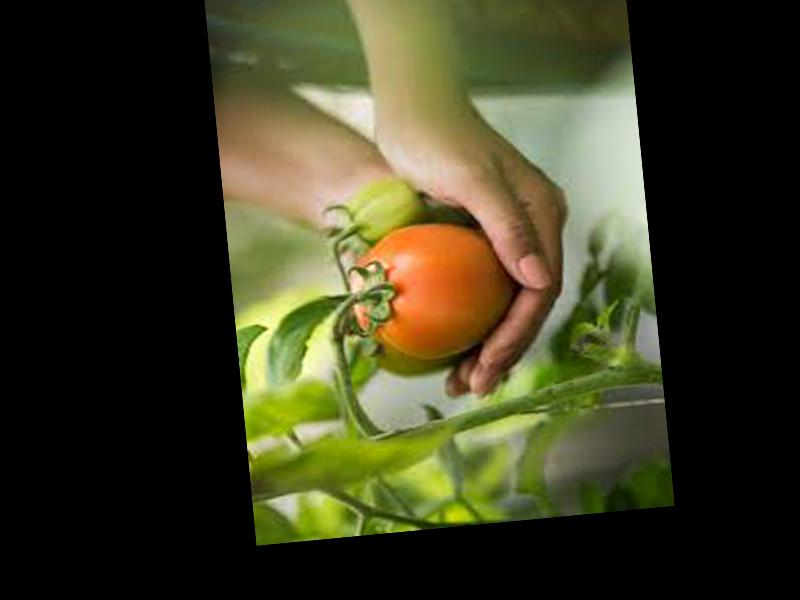Tomato: (346, 217, 512, 363)
